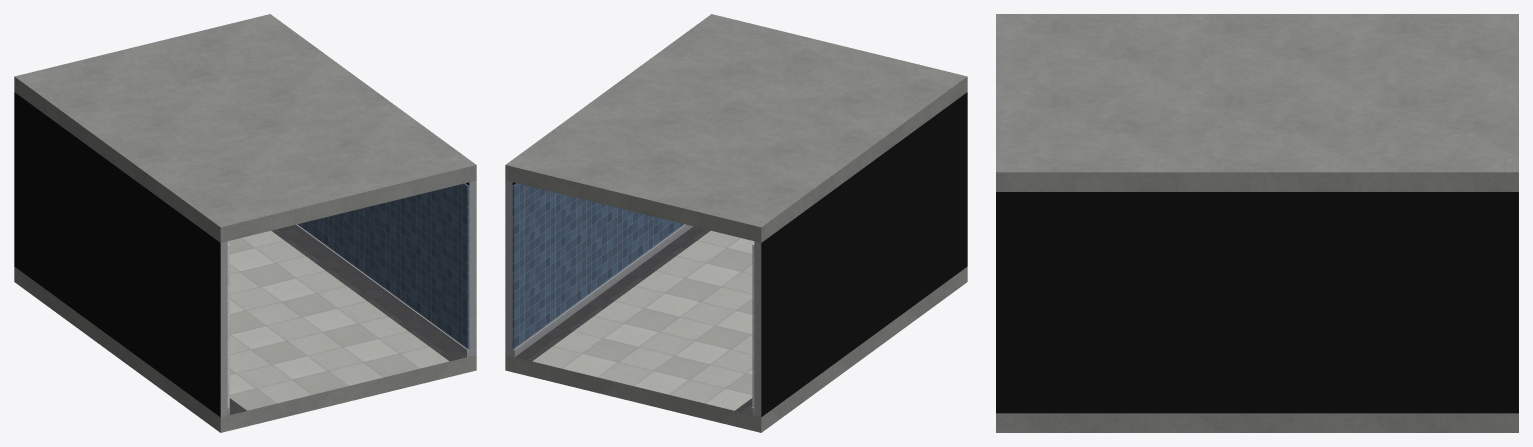
File: gteki_passage_straight_w4_l6_tile.glb
The picture shows the model from 3 angles, left to right: view 1: azimuth 30°, elevation 25°; view 2: azimuth 150°, elevation 25°; view 3: azimuth 270°, elevation 25°; orthographic projection. The views are drawn at different scales.
Parts seen in each view (by area): view 1: VIS_ceiling, VIS_walls, VIS_floor; view 2: VIS_ceiling, VIS_walls, VIS_floor; view 3: VIS_walls, VIS_ceiling, VIS_floor.
Part boxes in pixels (left/top/right/bottom): VIS_ceiling: left=14, top=14, right=476, bottom=242; VIS_walls: left=14, top=92, right=476, bottom=417; VIS_floor: left=14, top=226, right=476, bottom=432; VIS_ceiling: left=505, top=14, right=967, bottom=242; VIS_walls: left=505, top=92, right=967, bottom=417; VIS_floor: left=505, top=226, right=967, bottom=432; VIS_walls: left=996, top=192, right=1518, bottom=413; VIS_ceiling: left=996, top=14, right=1518, bottom=191; VIS_floor: left=996, top=413, right=1518, bottom=432.
Size of what is drawn, in the model's own units: 4.3 by 3.3 by 6.
Materials: 10 (6 with a texture image).
